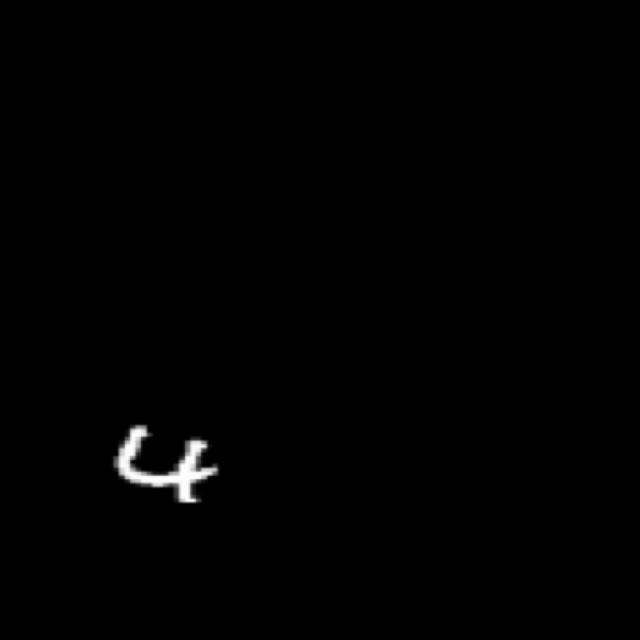four -4-: (95, 409, 241, 533)
